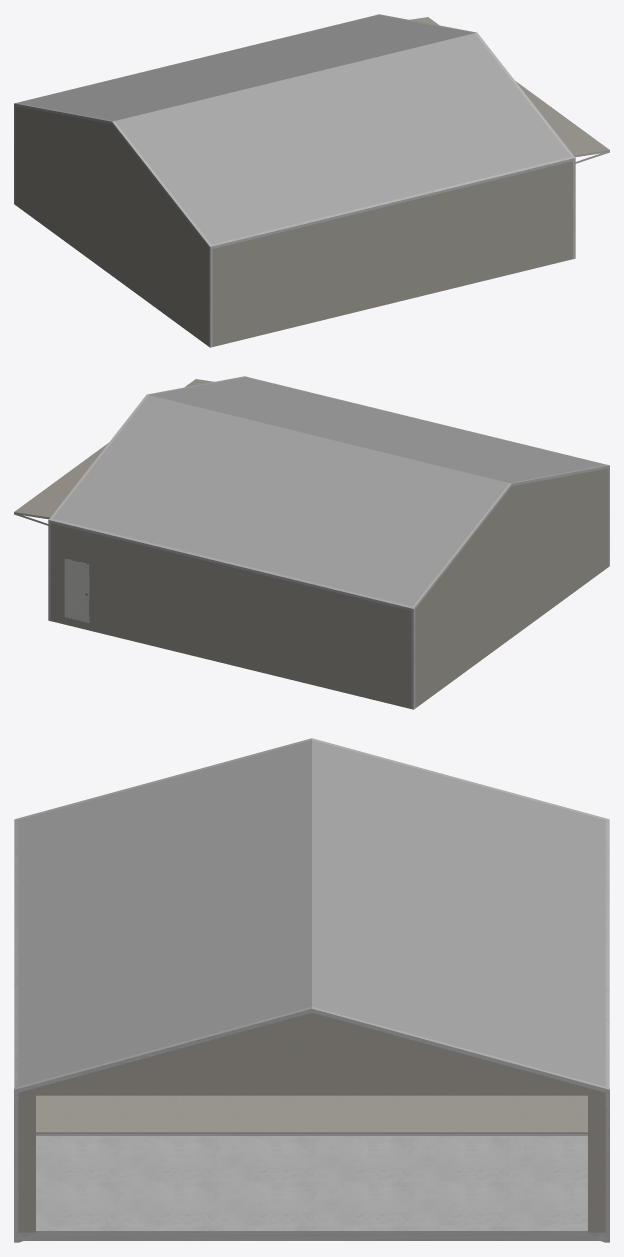
Rendered from gen_open_hangar02-14x15x4-cbj_LOD03.gltf.
3 renders of one model, top to bottom at view 1: azimuth 30°, elevation 25°; view 2: azimuth 150°, elevation 25°; view 3: azimuth 270°, elevation 25°, orthographic. The views are drawn at different scales.
Parts seen in each view (by area): view 1: Cube.009; view 2: Cube.009; view 3: Cube.009.
Part boxes in pixels (x1,y1,x2,y2): Cube.009: [14, 14, 609, 347]; Cube.009: [14, 376, 609, 709]; Cube.009: [14, 738, 609, 1242].
Bounding box in the file's own units: 16.15 × 5.85 × 13.5.
